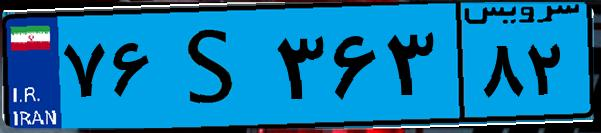2: (525, 38, 570, 115)
3: (270, 28, 330, 110), (385, 28, 445, 110)
6: (330, 28, 385, 110), (110, 28, 158, 98)
7: (57, 26, 110, 100)
8: (475, 38, 525, 113)
S: (158, 12, 270, 120)
